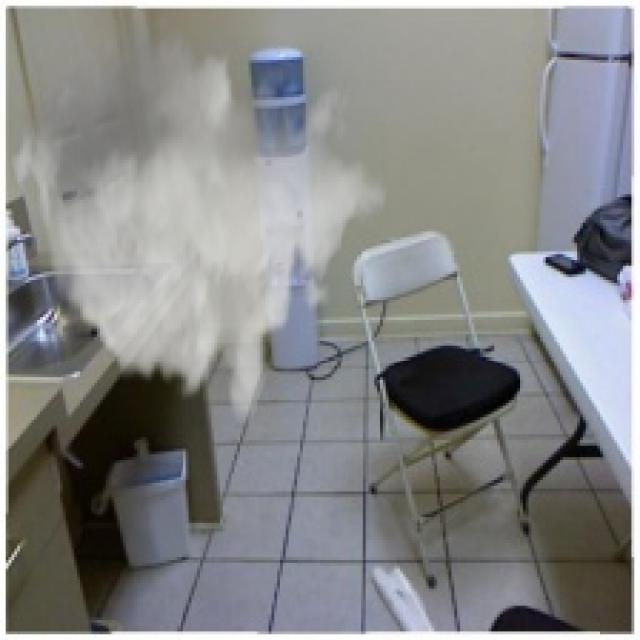smoke: (6, 6, 388, 428)
